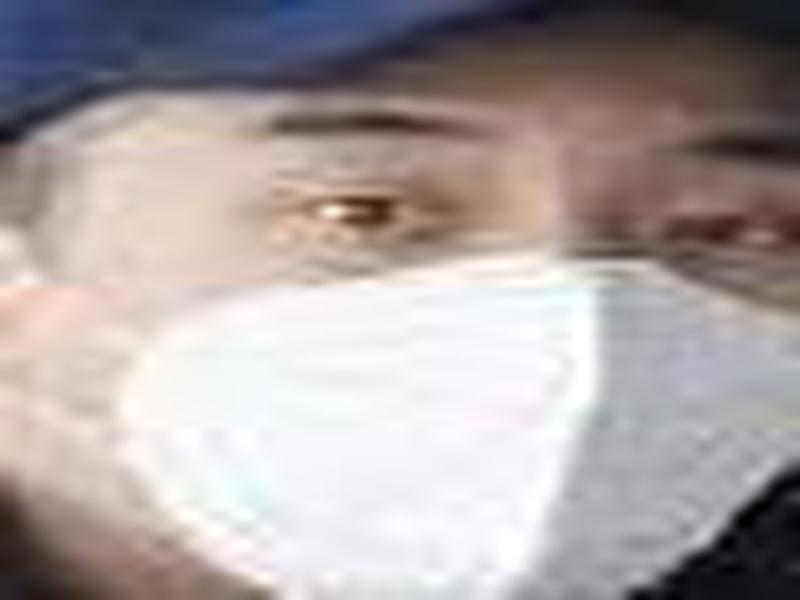with_mask: (36, 1, 797, 597)
